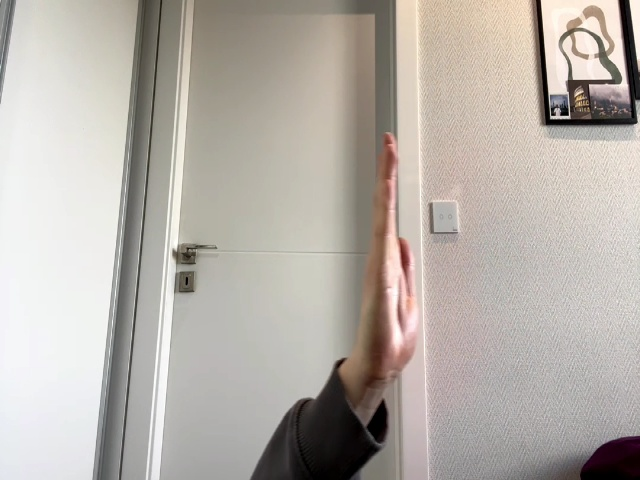SZ: (364, 133, 417, 383)
